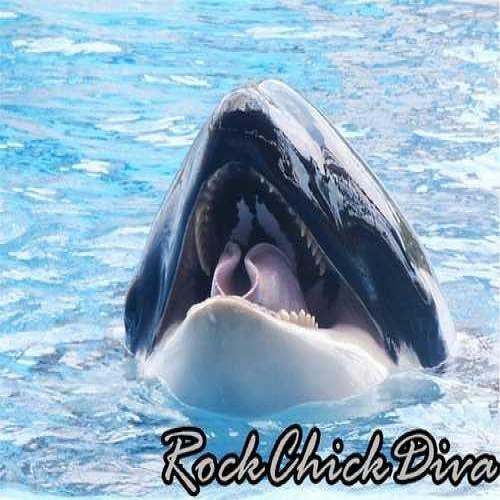killer_whale-endangered: (111, 46, 475, 432)
